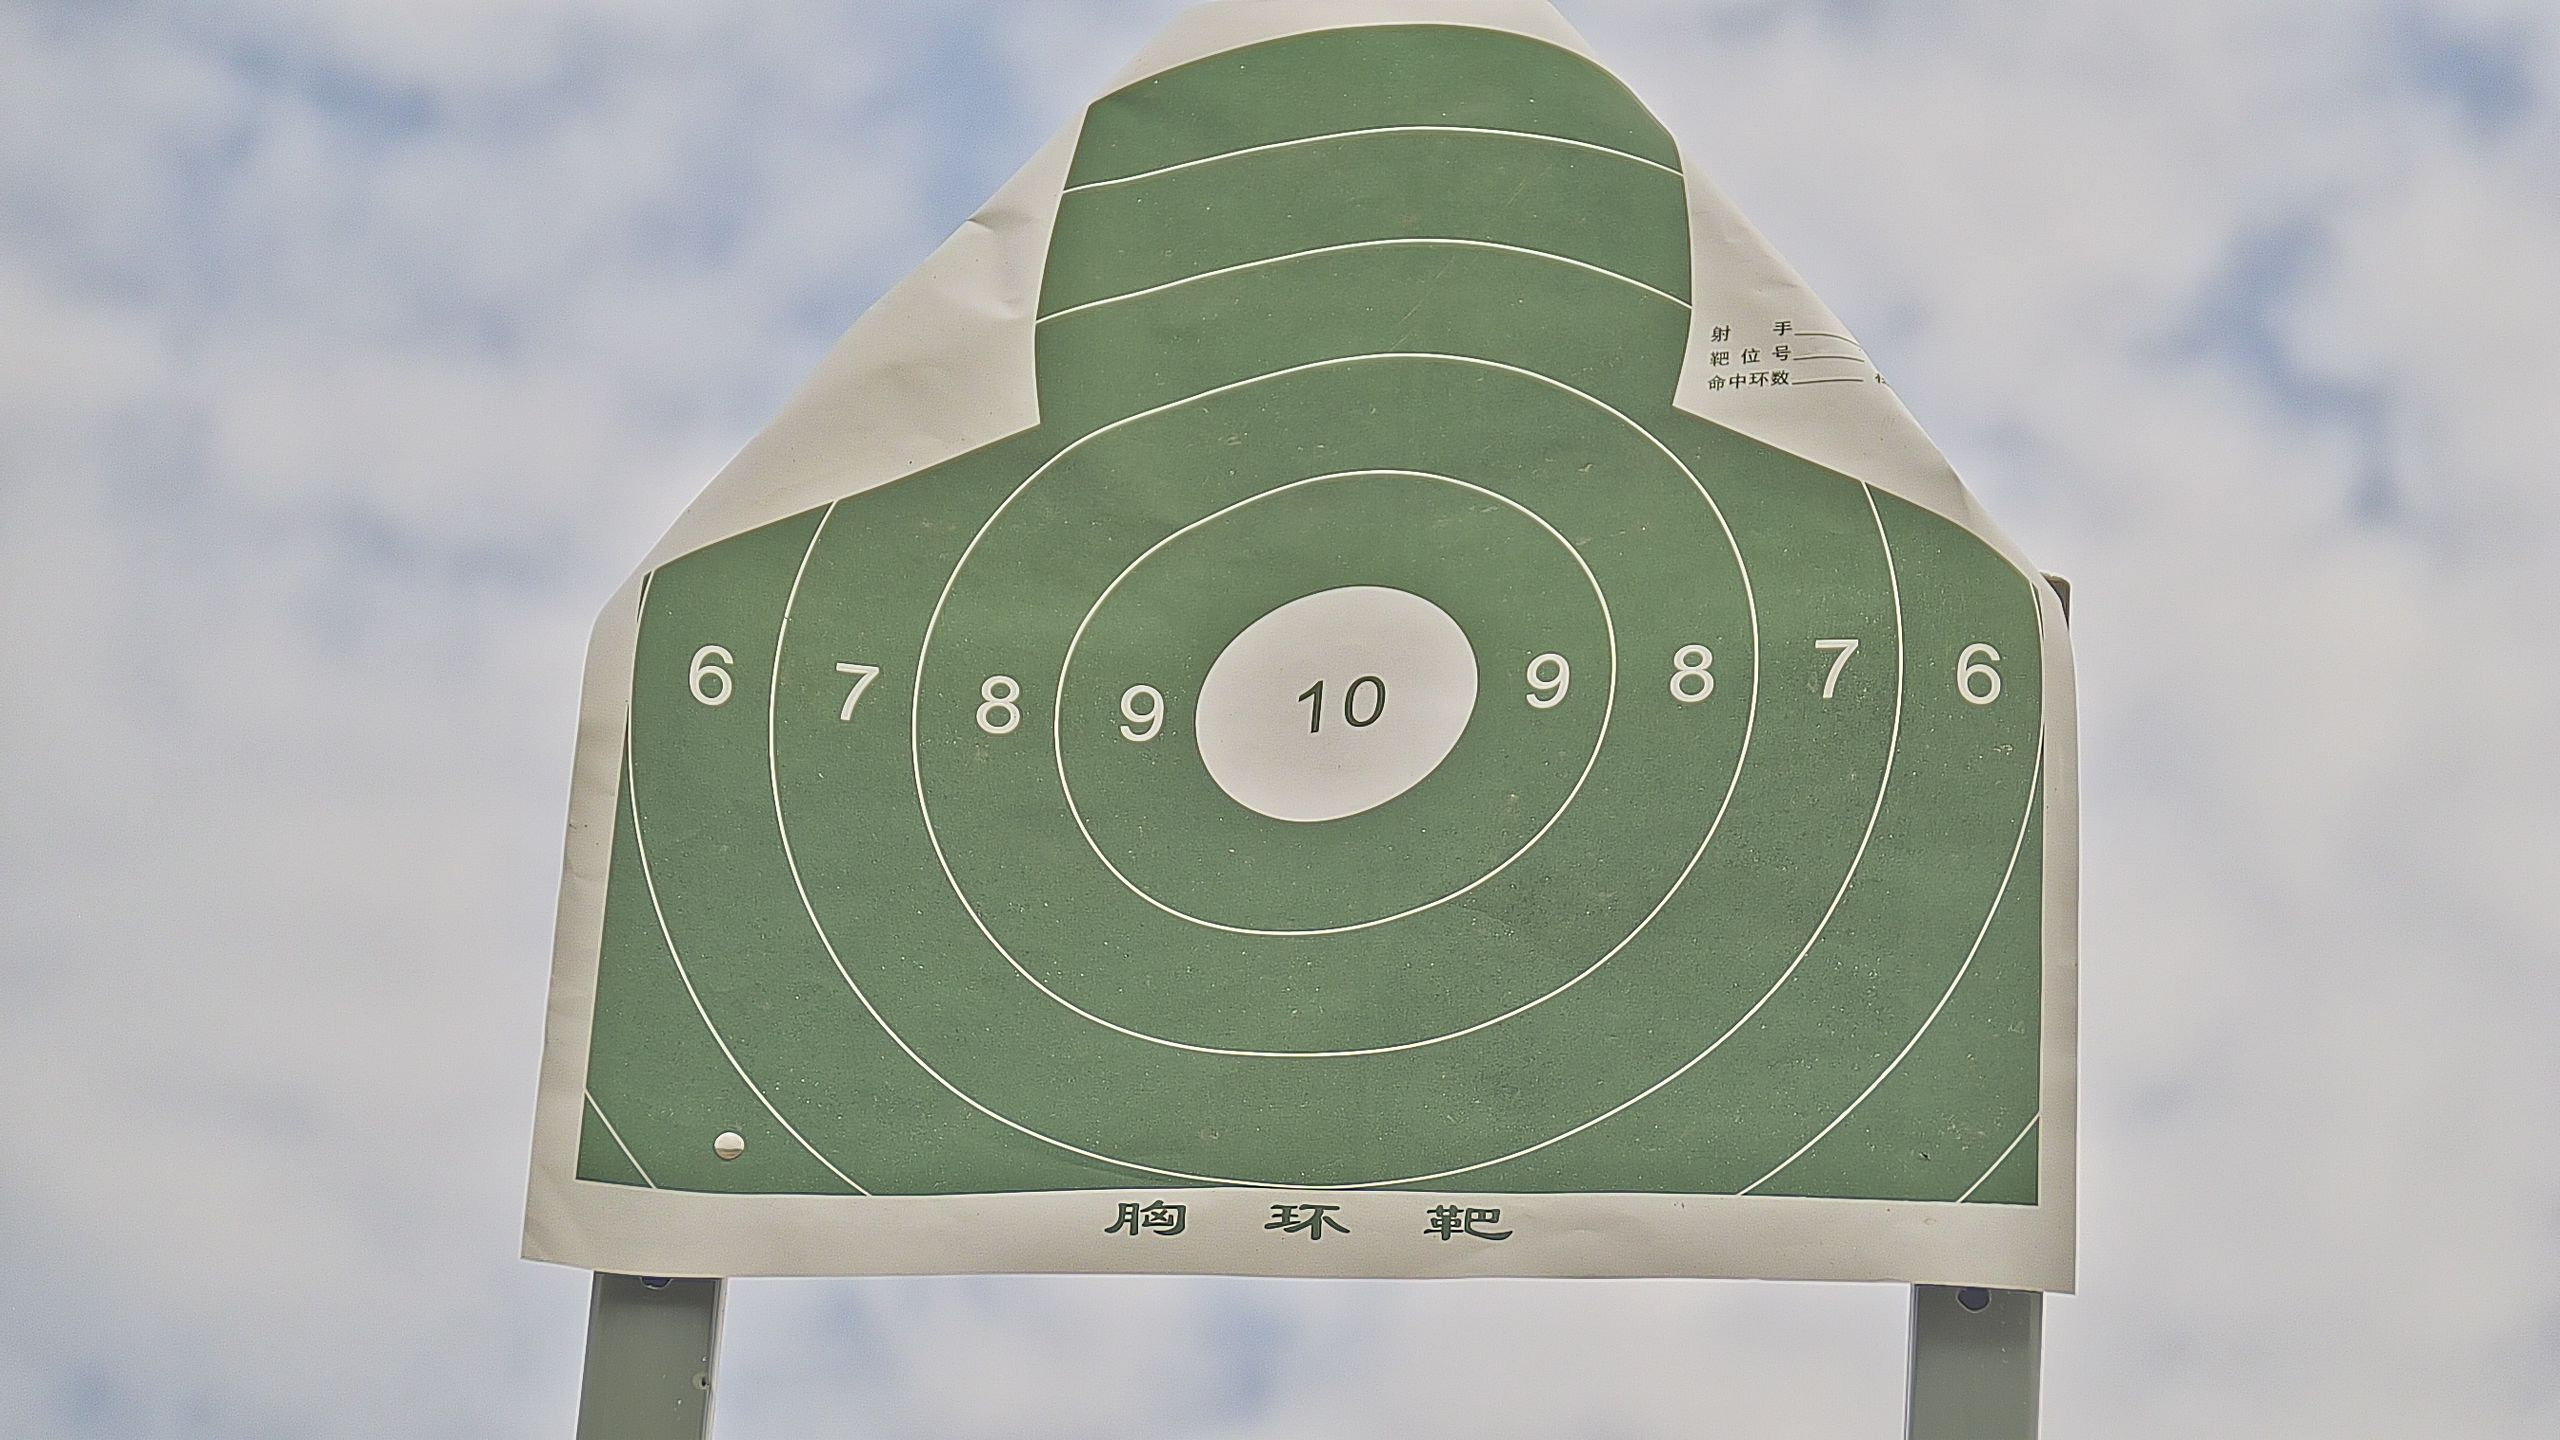kernel: (1333, 702, 1340, 710)
target: (573, 19, 2045, 1206)
ten: (1189, 585, 1480, 826)
